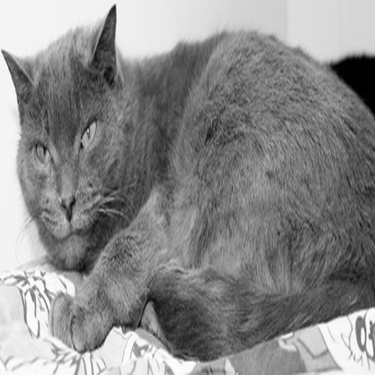cat: (1, 5, 371, 358)
